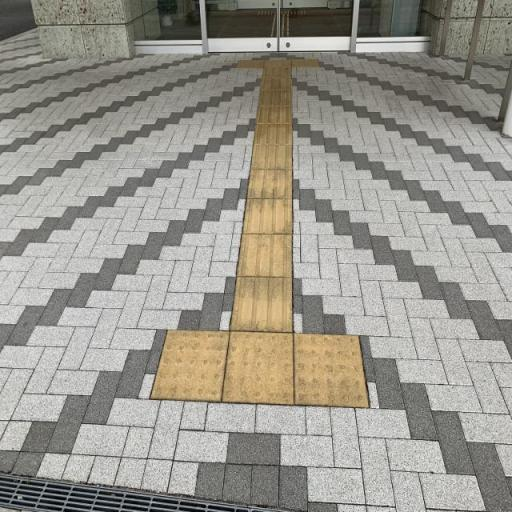dot: (152, 329, 231, 402), (295, 333, 370, 409), (223, 330, 295, 404)
line: (229, 276, 293, 332), (236, 232, 292, 278), (242, 198, 293, 235), (247, 169, 293, 198), (250, 144, 292, 170)
